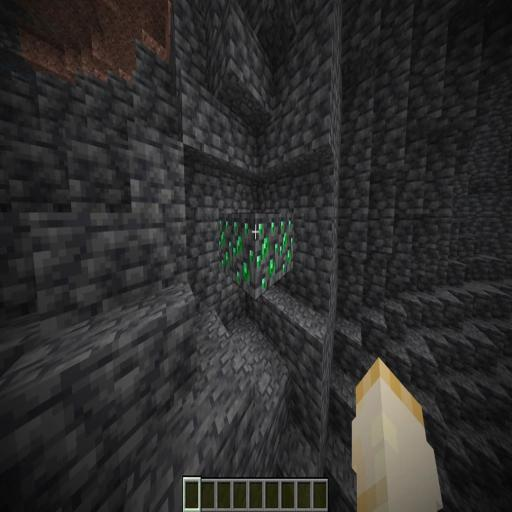emerald ore: (212, 194, 298, 301)
